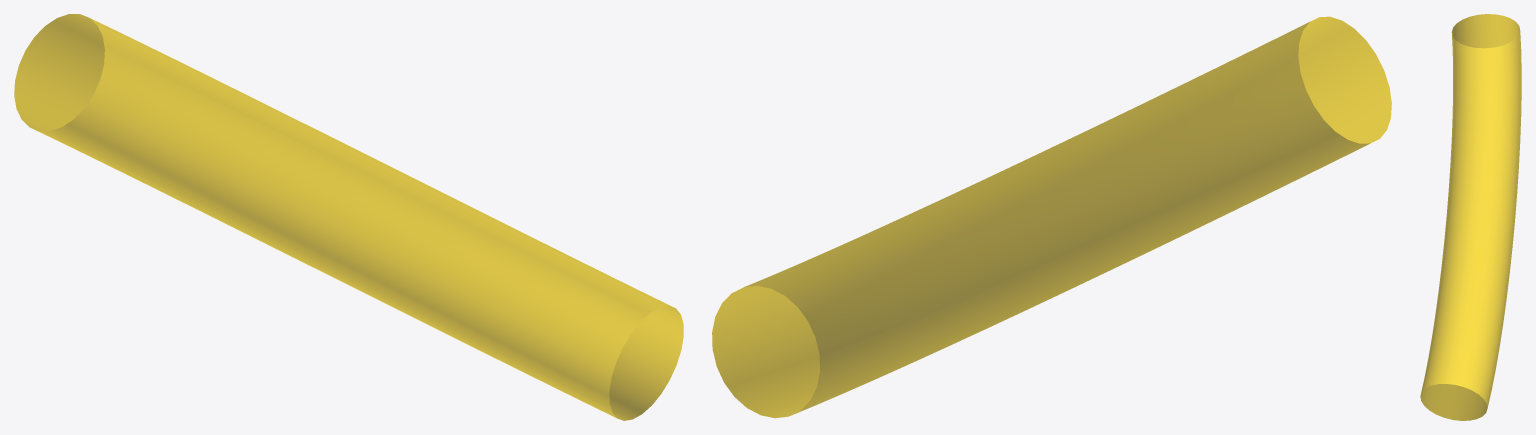
The model's file is Event_27938768_track_68.fbx.
3 views of the same model, side by side, from view 1: azimuth 30°, elevation 25°; view 2: azimuth 150°, elevation 25°; view 3: azimuth 270°, elevation 25° (orthographic). The views are drawn at different scales.
Parts seen in each view (by area): view 1: Model; view 2: Model; view 3: Model.
Part boxes in pixels (left/top/right/bottom): Model: left=14, top=14, right=683, bottom=420; Model: left=712, top=16, right=1391, bottom=418; Model: left=1420, top=14, right=1521, bottom=420.
Bounding box in the file's own units: 0.2289 × 0.1761 × 0.0591.
